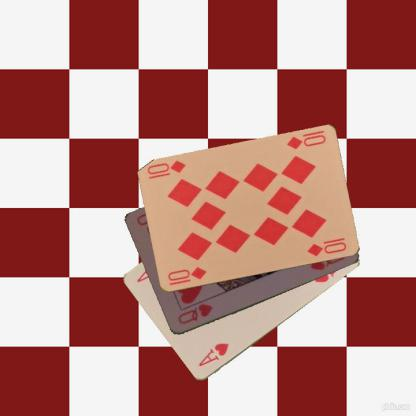10d: (165, 264, 208, 287), (284, 132, 327, 151)
Ah: (196, 340, 230, 368)
Qh: (175, 301, 214, 326)
